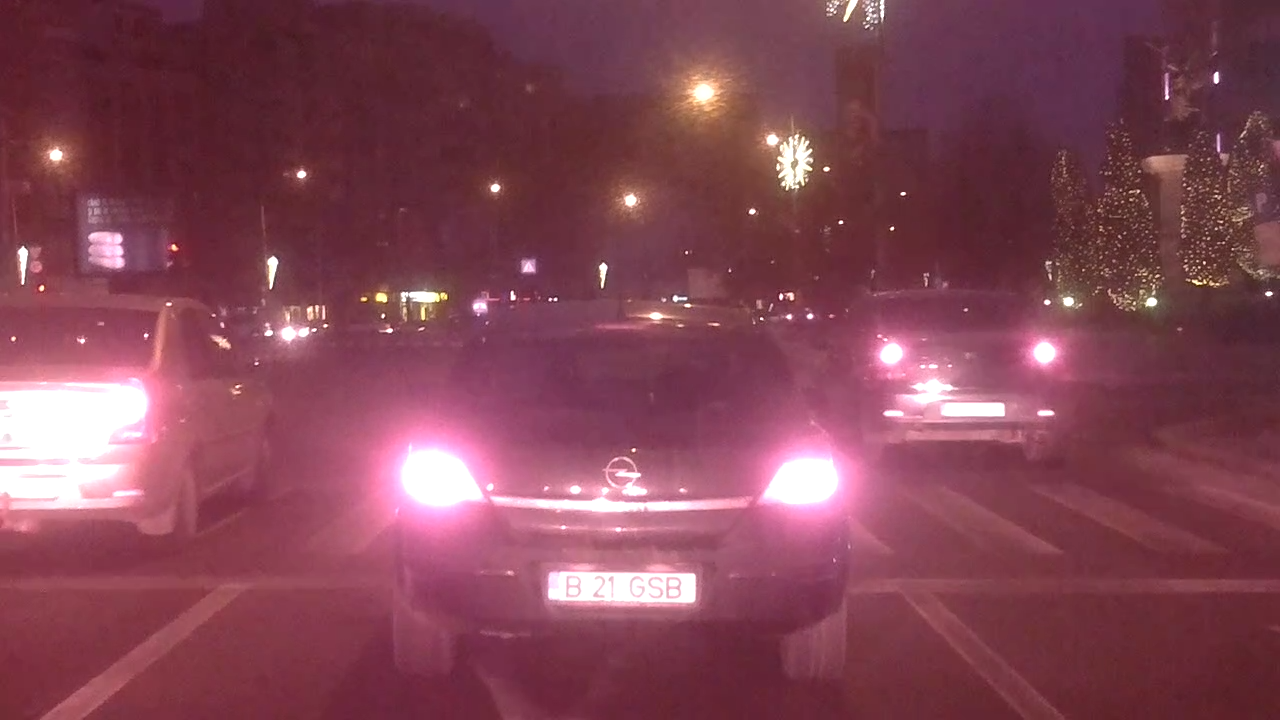license-plate: (541, 567, 699, 607)
